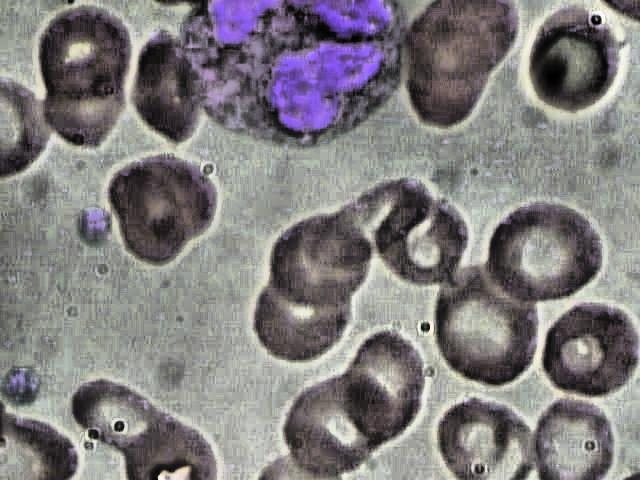Platelets: (70, 206, 118, 255), (1, 361, 48, 410)
RBC: (484, 195, 613, 303), (523, 1, 640, 119), (256, 200, 376, 307), (96, 157, 227, 244), (525, 299, 637, 396), (338, 325, 429, 444), (32, 5, 133, 98), (132, 22, 201, 145)
WBC: (183, 1, 425, 153)
